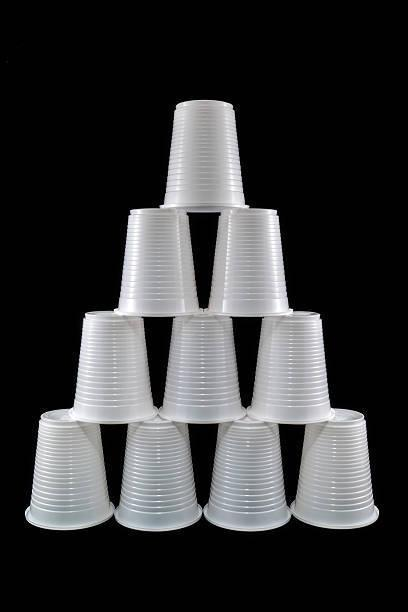cup-disposable: (20, 408, 114, 532), (289, 407, 382, 531), (111, 417, 202, 534), (201, 418, 292, 534), (69, 308, 156, 425), (161, 97, 248, 214), (157, 310, 245, 425), (246, 309, 333, 425), (204, 204, 291, 318), (116, 204, 201, 318)
